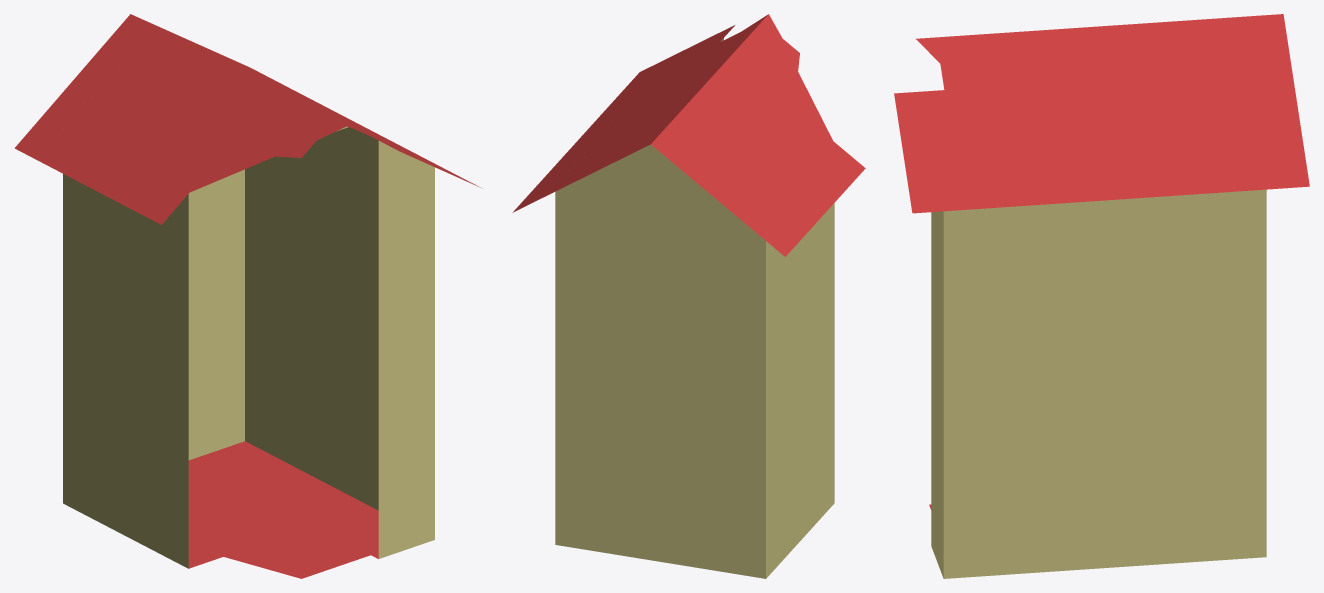
3 views of the same model, side by side, from view 1: azimuth 30°, elevation 25°; view 2: azimuth 150°, elevation 25°; view 3: azimuth 270°, elevation 25° (orthographic). The views are drawn at different scales.
Bounding box in the file's own units: 7.76 × 8.28 × 10.69.
